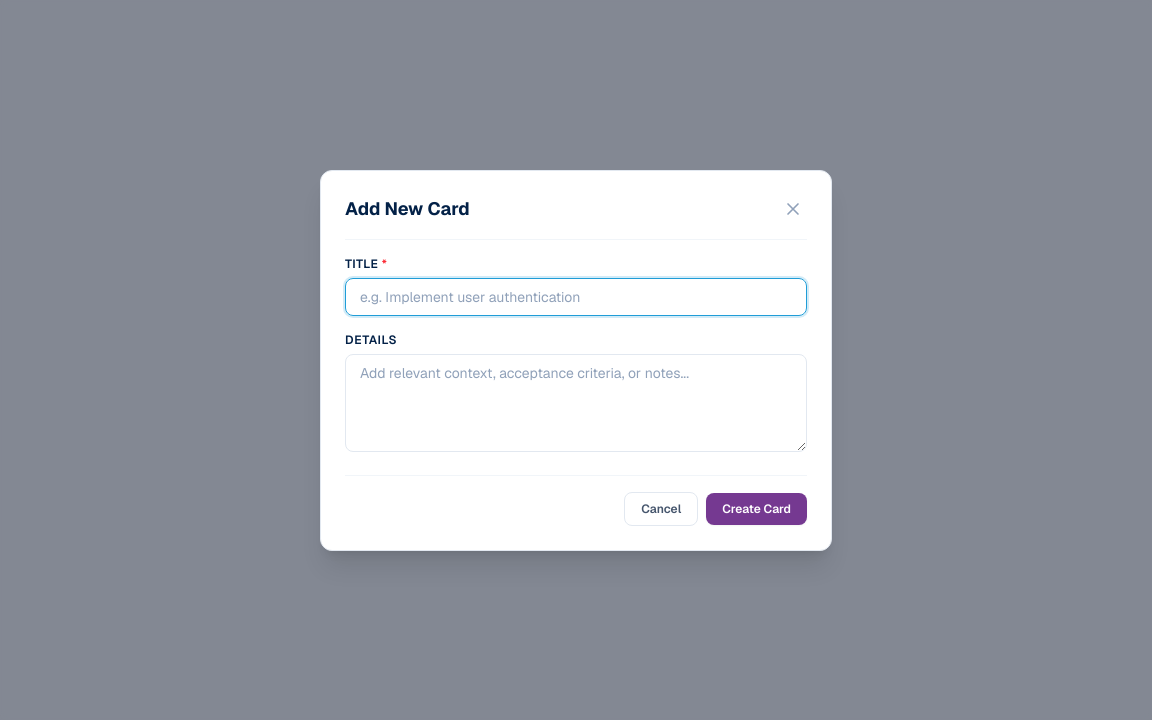
CardModal › shows error when trying to submit without title
The image size is (1152, 720).
Click the button "Create Card".
click(757, 508)  # box [706,492,807,524]
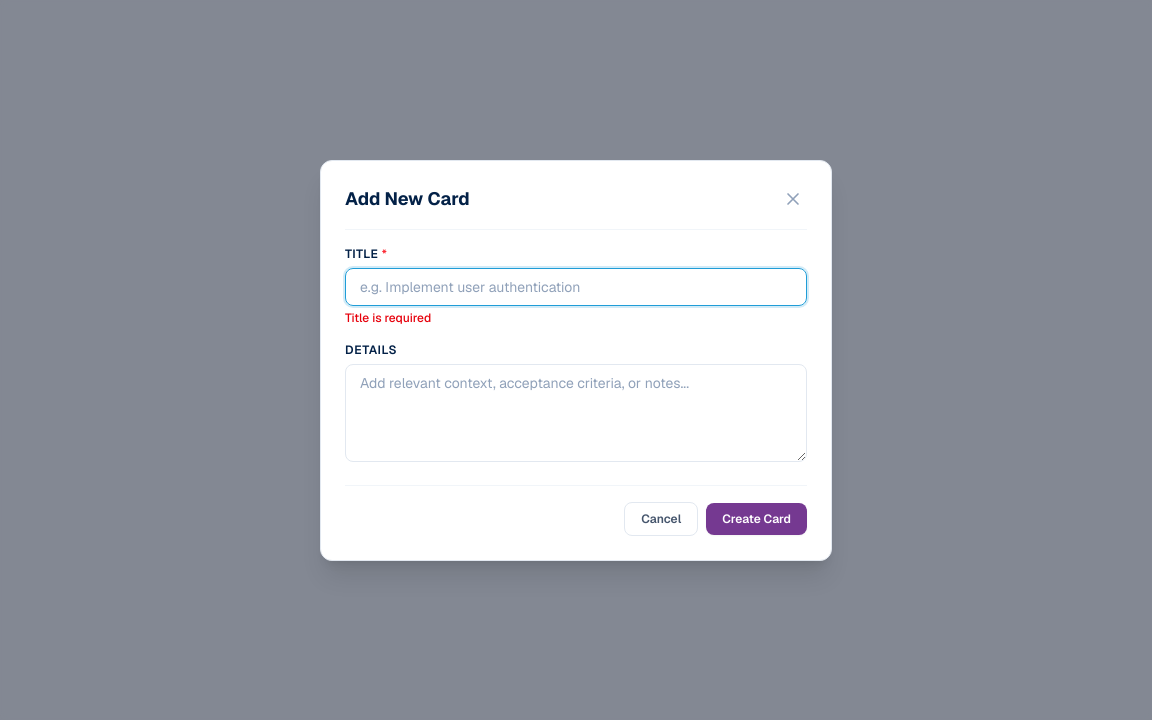
Now the text "Title is required" is shown, box [345,310,431,326]
